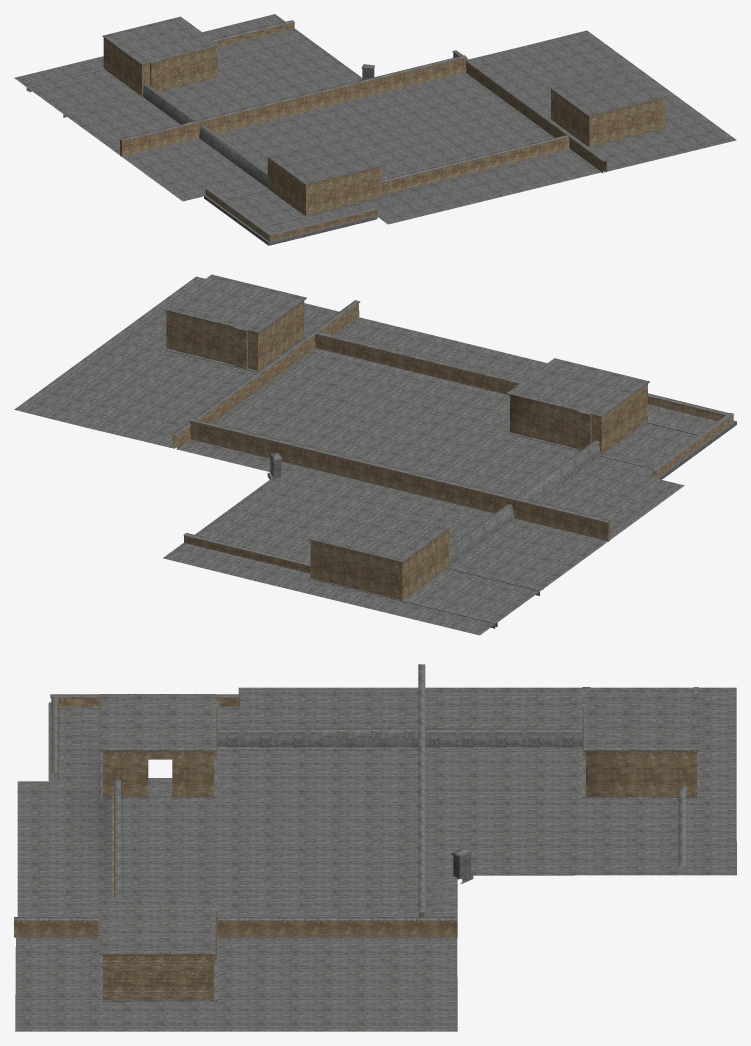
File: corner_building_a_roof.FBX
The picture shows the model from 3 angles, top to bottom: view 1: azimuth 30°, elevation 25°; view 2: azimuth 150°, elevation 25°; view 3: azimuth 270°, elevation 25°; orthographic projection. The views are drawn at different scales.
Parts seen in each view (by area): view 1: corner_building_a_roof; view 2: corner_building_a_roof; view 3: corner_building_a_roof.
Boxes of the visible parts, x1=… form: corner_building_a_roof: x1=14, y1=14, x2=736, y2=245; corner_building_a_roof: x1=14, y1=274, x2=736, y2=635; corner_building_a_roof: x1=14, y1=664, x2=736, y2=1031.
Bounding box in the file's own units: 4915 × 363 × 4363.
